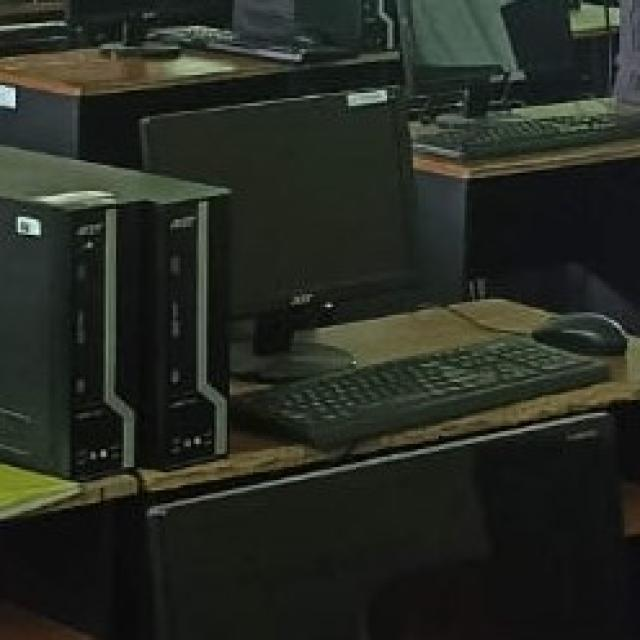offscreen: (140, 90, 408, 314)
